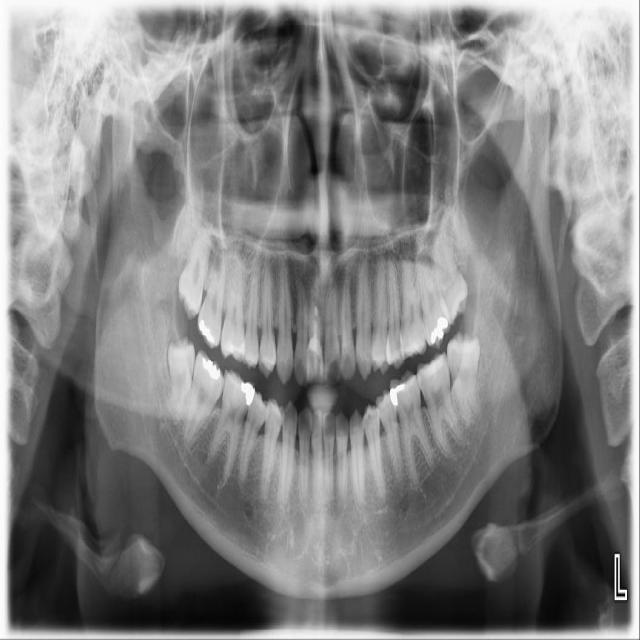3M ESPE Implant: (173, 217, 215, 321)
52: (184, 345, 237, 406), (208, 365, 264, 418), (380, 365, 433, 417), (420, 293, 454, 350), (196, 296, 223, 349), (306, 339, 324, 384)
73: (308, 277, 325, 341), (596, 584, 601, 588)
BioHorizons Implant: (409, 220, 455, 351)
BioLife Implant: (422, 221, 475, 327)
Biomet 3i Implant: (446, 331, 482, 422)
Blue Sky Bio Implant: (413, 350, 467, 459)
Caries: (195, 237, 231, 349)
Implant: (180, 346, 230, 452)
Keystone Dental Implant: (166, 335, 200, 423)
